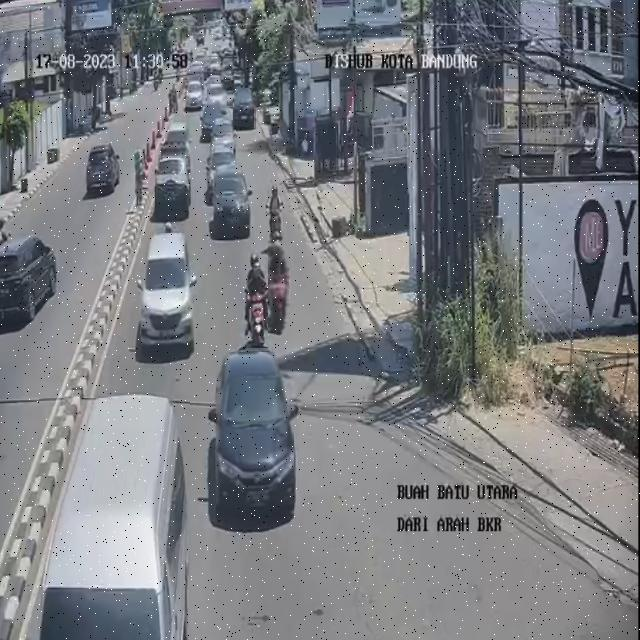bus: (39, 398, 190, 639)
cars: (216, 352, 294, 518), (142, 233, 193, 355), (214, 166, 251, 236), (206, 148, 240, 204), (210, 121, 236, 156), (233, 89, 255, 128), (165, 123, 191, 155), (202, 104, 223, 142), (208, 85, 226, 113), (185, 81, 202, 110), (187, 67, 203, 81)
motorcycle: (245, 253, 268, 349), (269, 231, 289, 333), (265, 186, 284, 241)
truck: (155, 142, 192, 217)
